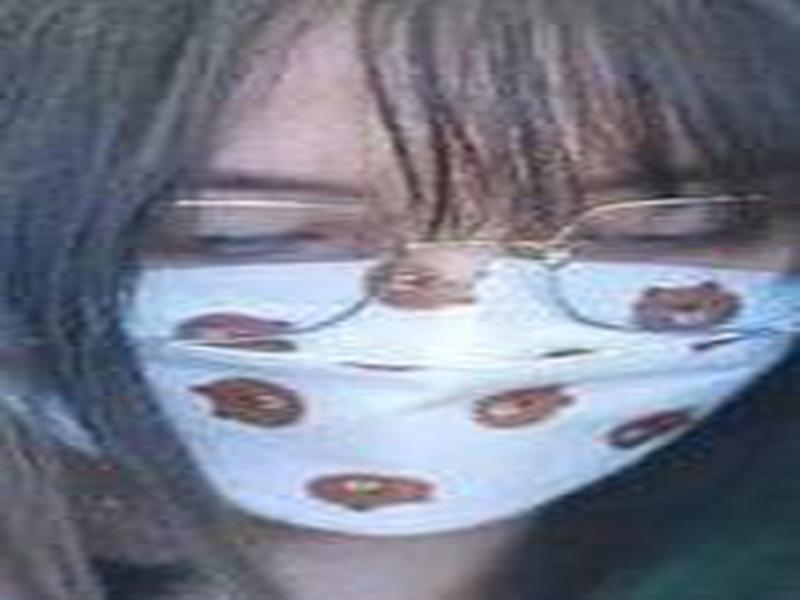with_mask: (1, 1, 796, 547)
